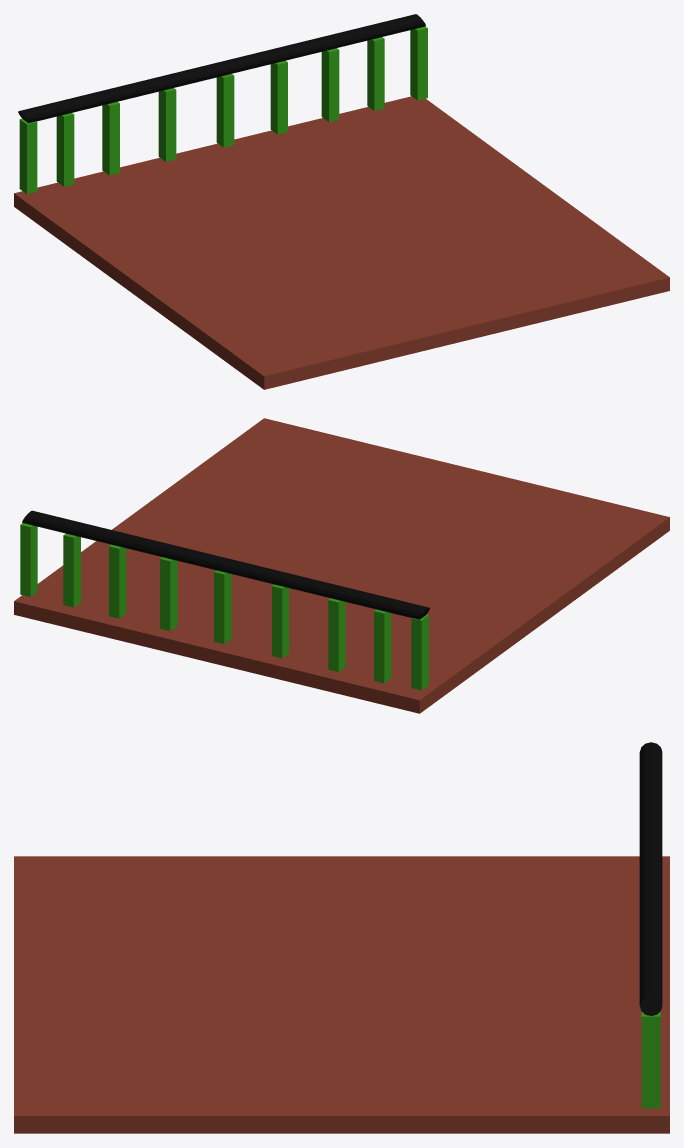
The model's file is Ponte1.fbx.
3 renders of one model, top to bottom at view 1: azimuth 30°, elevation 25°; view 2: azimuth 150°, elevation 25°; view 3: azimuth 270°, elevation 25°, orthographic. The views are drawn at different scales.
Parts seen in each view (by area): view 1: Ponte.001; view 2: Ponte.001; view 3: Ponte.001.
Boxes of the visible parts, bbox=[...] form: Ponte.001: bbox=[14, 14, 669, 389]; Ponte.001: bbox=[14, 418, 669, 713]; Ponte.001: bbox=[14, 742, 669, 1133].
Size of the model in its own units: 869 by 205 by 926.
